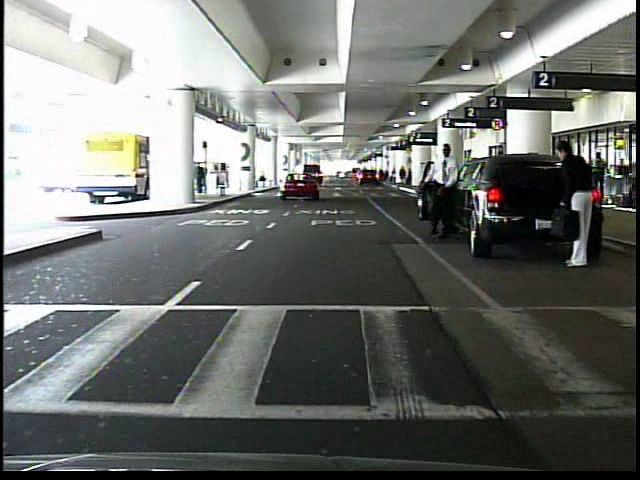person: (546, 137, 595, 268), (424, 143, 454, 241), (593, 153, 607, 205), (194, 160, 208, 196), (398, 165, 409, 189)
